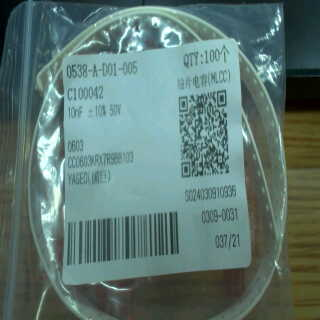10nF: (64, 103, 86, 119)
